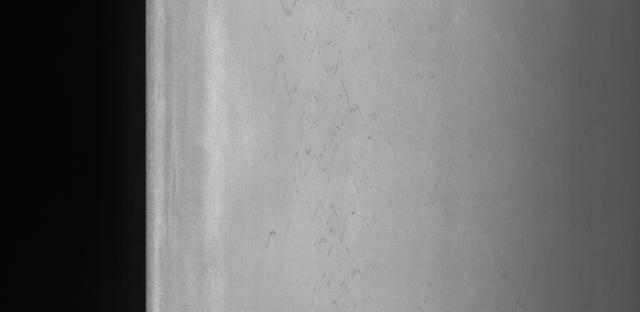silk_spot: (258, 6, 378, 270)
